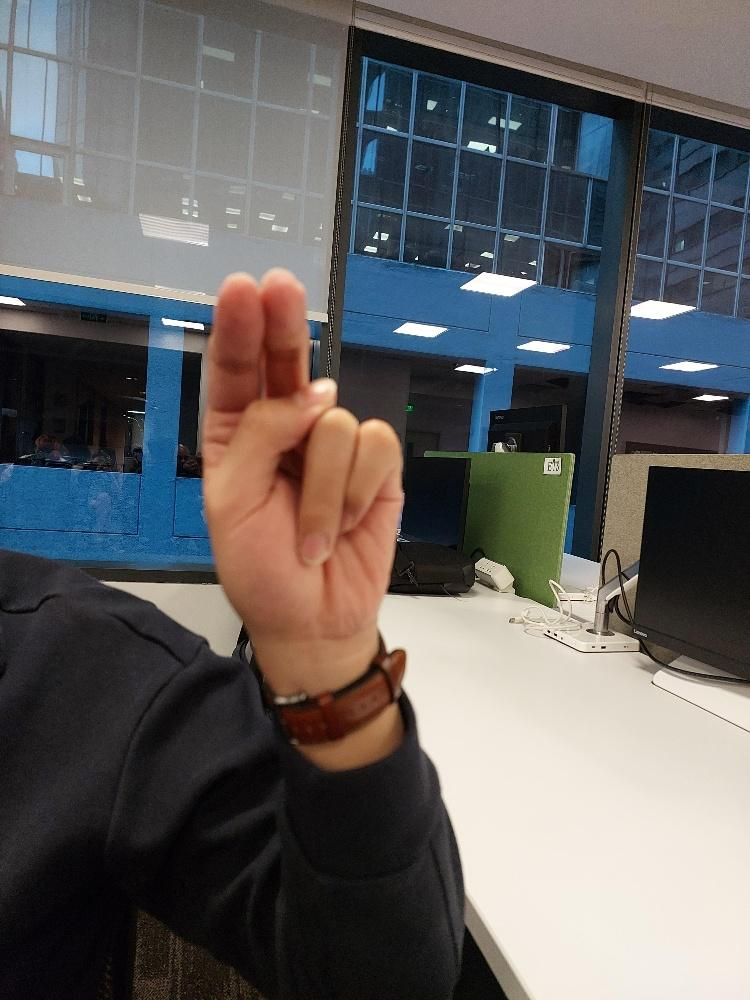n: (198, 265, 404, 632)
